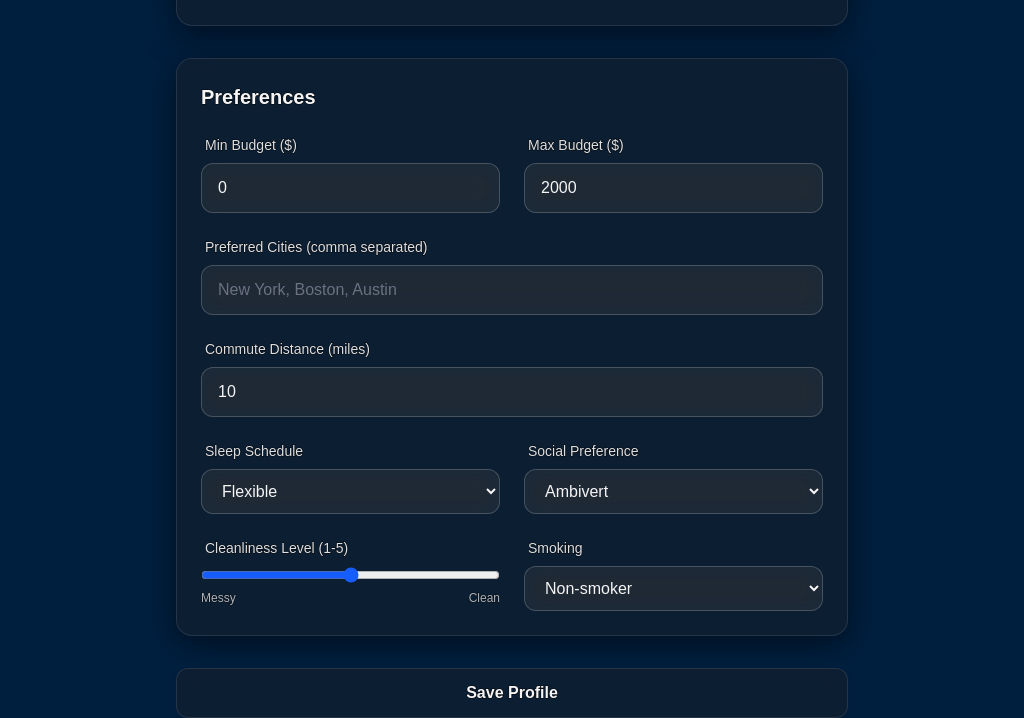
Test: ProfileForm input and submission › shows validation errors when submitting invalid data
This screenshot has width=1024, height=718.
(page scrolled)
Click the button "Save Profile".
click(512, 693)  # box top-left (176, 668), bottom-right (848, 717)
(page scrolled)
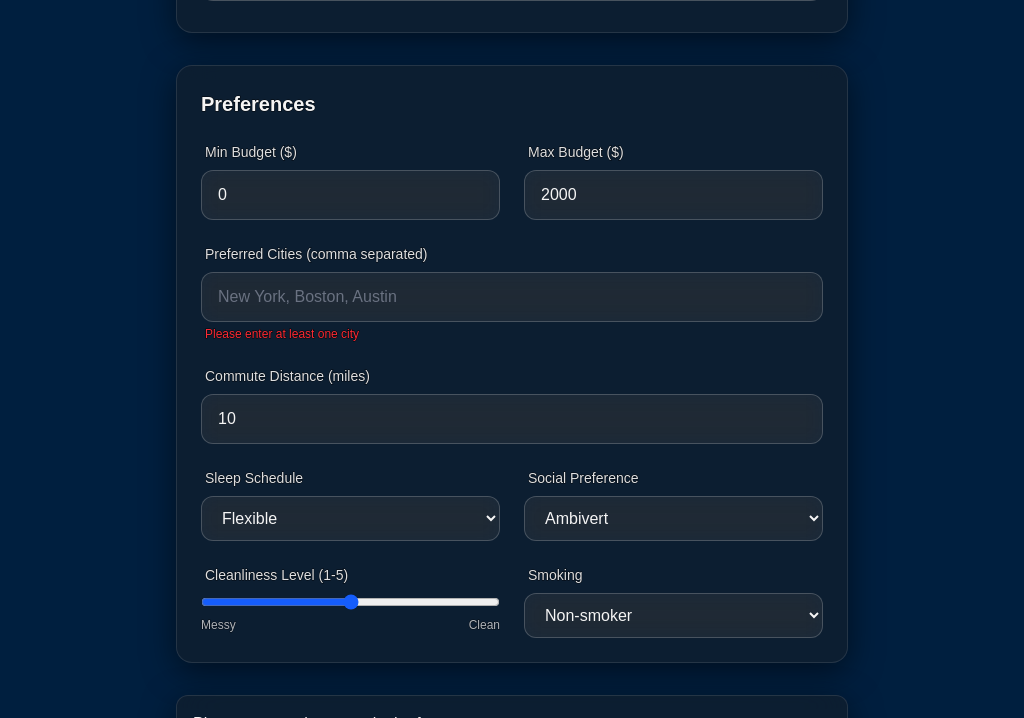
Expected: the text "Please enter at least one city" is shown, top-left (205, 327), bottom-right (359, 341)
